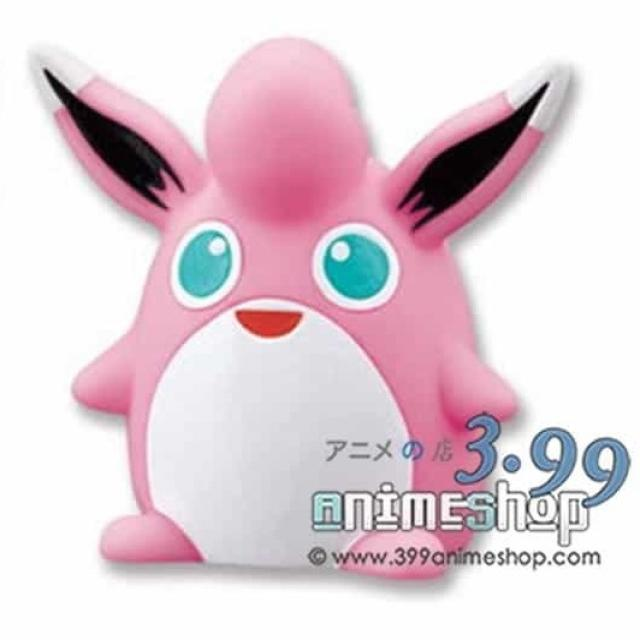Wigglytuff: (79, 36, 520, 571)
